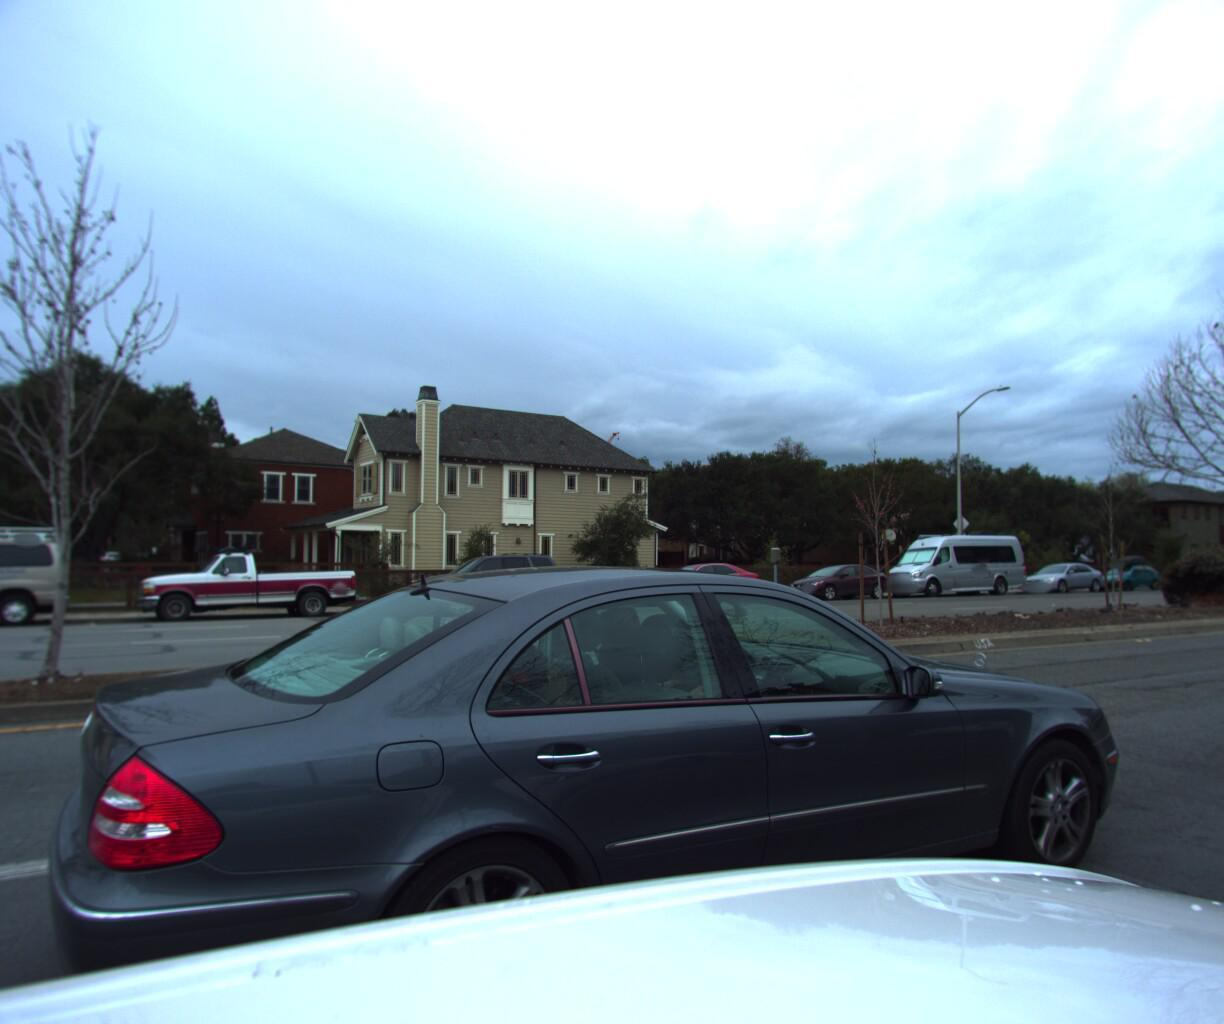car: (81, 542, 1157, 1024), (126, 537, 366, 623), (397, 546, 577, 614), (867, 521, 1033, 594), (0, 515, 79, 635), (619, 556, 769, 604), (778, 557, 901, 598), (1009, 556, 1107, 590), (1078, 550, 1160, 588)
other_vehicle: (1209, 526, 1224, 586)
